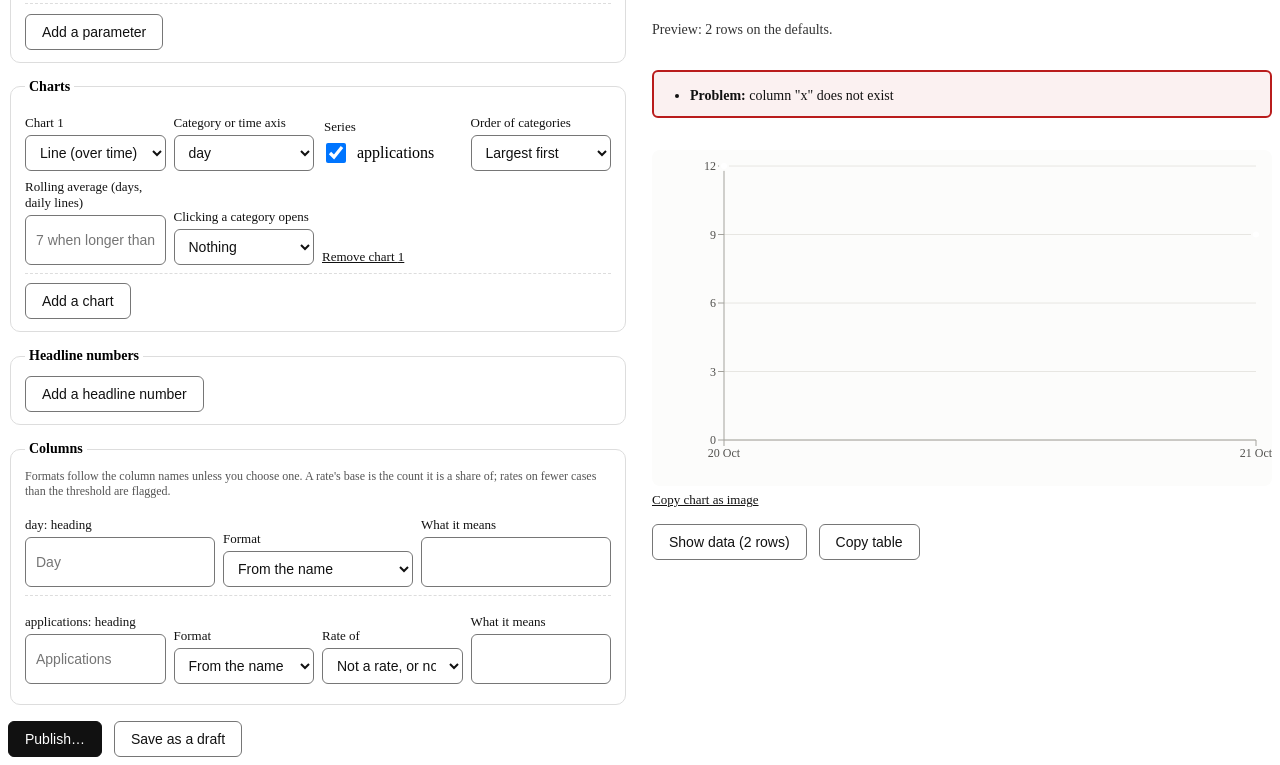
Test case: ReportEditor › blocks publishing while the checks find an error
(page scrolled)
expect the text "Preview: 2 rows on the defaults." is shown: met, box [652,22,832,37]
Click the button "Publish…".
click(55, 738)  # box [8,720,102,756]
(page scrolled)
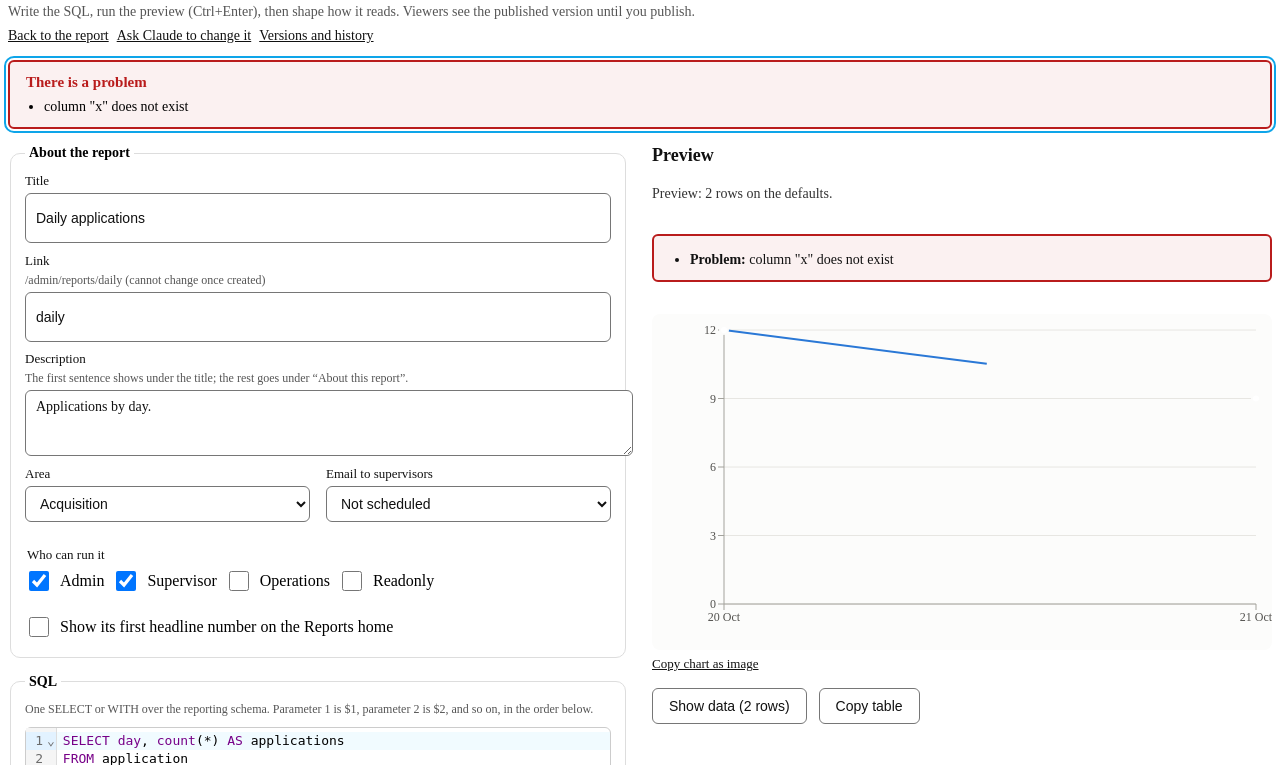
expect the message with test id "editor-problems" shows "column \"x\" does not exist": met, box [44,99,188,114]
